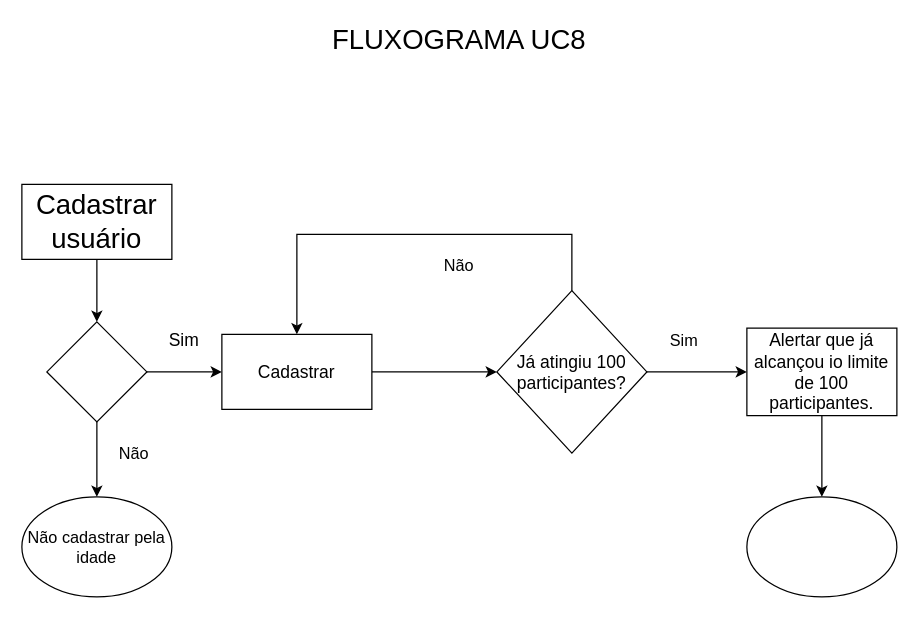
Some shapes in this 919 by 619 pixel diagram are drawn without their labels. Here are the shapes that lost their labels. From the top down, the centre of each, then its label:
(x=96, y=371): TEM MAIS DE 18 ANOS?
(x=821, y=546): Parar de cadastrar
